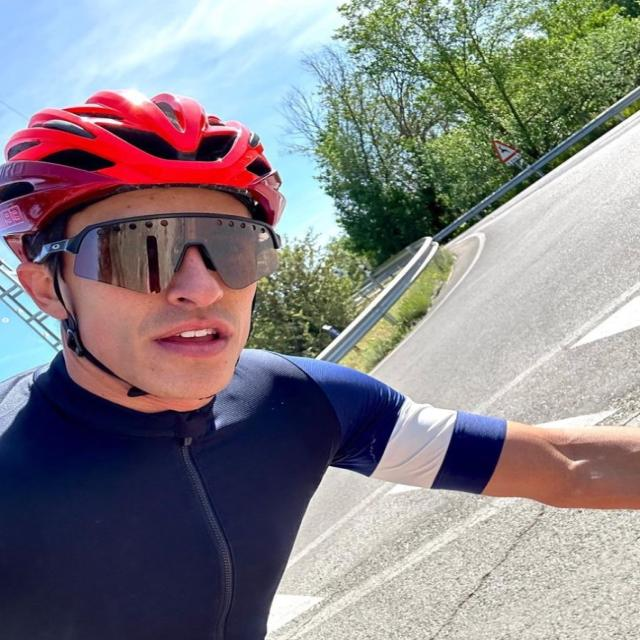illegal_helmet: (0, 85, 291, 405)
